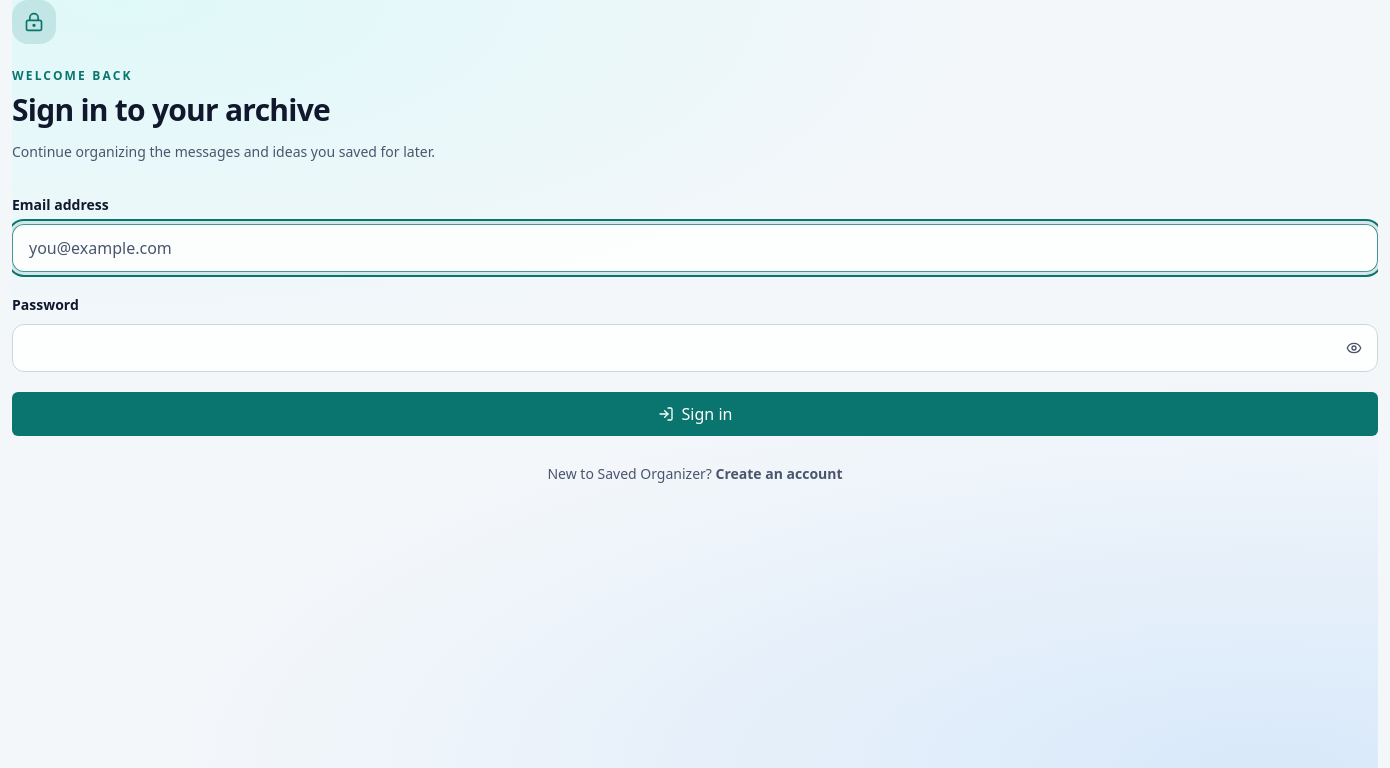
Test case: LoginPage › uses accessible autocomplete and validation errors
Click the button "Sign in".
click(695, 414)  # box [12, 392, 1378, 436]
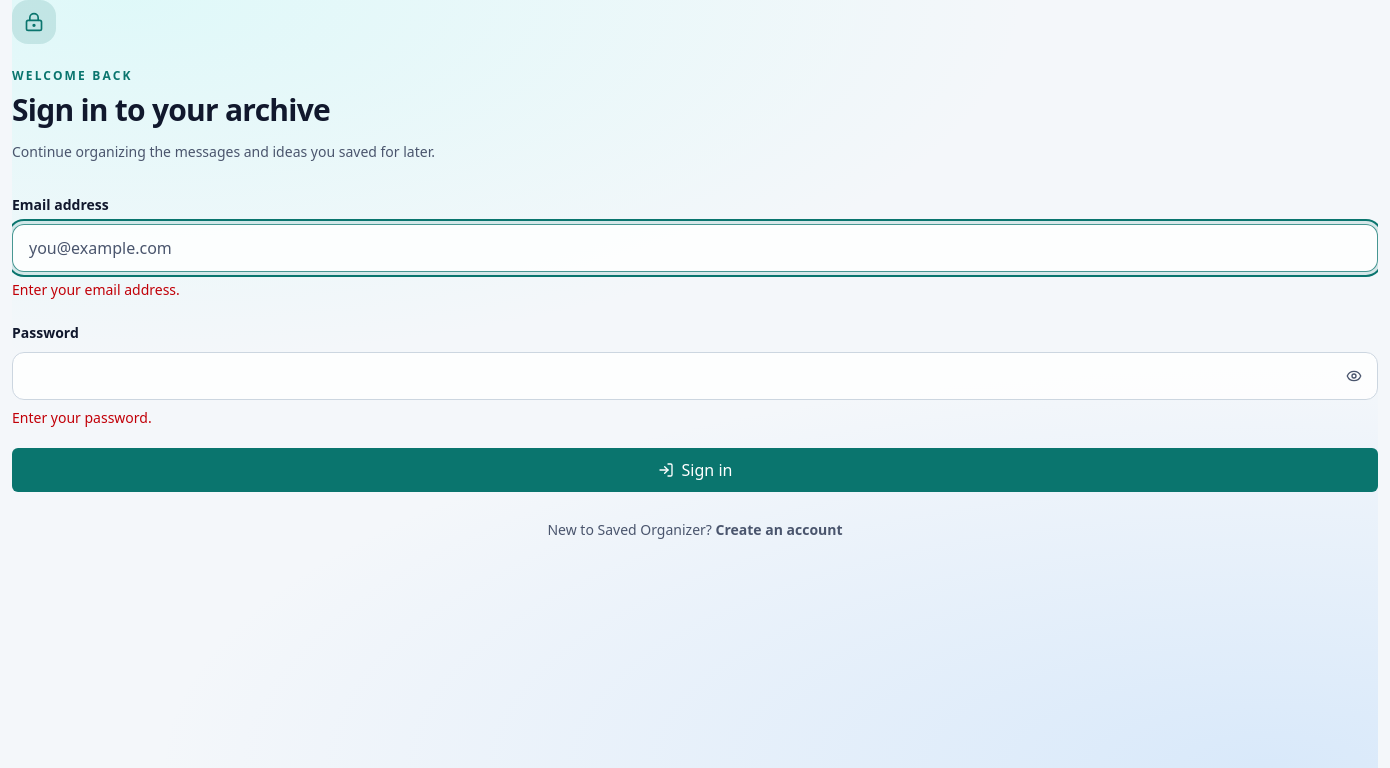
Expected: the text "Enter your email address." is shown, [12, 280, 180, 299]
